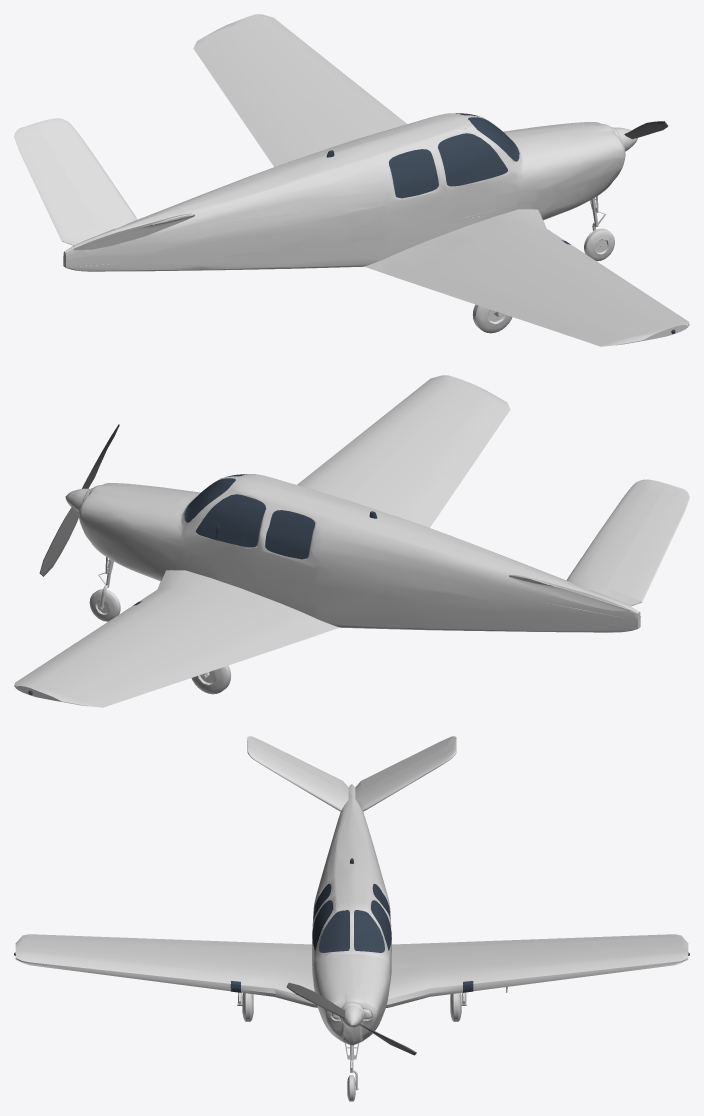
3 views of the same model, one above another, from view 1: azimuth 30°, elevation 25°; view 2: azimuth 150°, elevation 25°; view 3: azimuth 270°, elevation 25° (orthographic). The views are drawn at different scales.
Visible parts, largest first — view 1: body, glass; view 2: body, glass, spin; view 3: body, glass, spin.
Boxes of the visible parts, left/top/right/bottom form: body: left=14, top=14, right=689, bottom=346; glass: left=326, top=113, right=675, bottom=333; body: left=14, top=375, right=689, bottom=707; glass: left=28, top=474, right=377, bottom=694; spin: left=39, top=424, right=119, bottom=576; body: left=15, top=736, right=688, bottom=1101; glass: left=14, top=858, right=689, bottom=992; spin: left=286, top=982, right=416, bottom=1055.
Size of the model in its own units: 1.71 by 0.5977 by 2.2.
